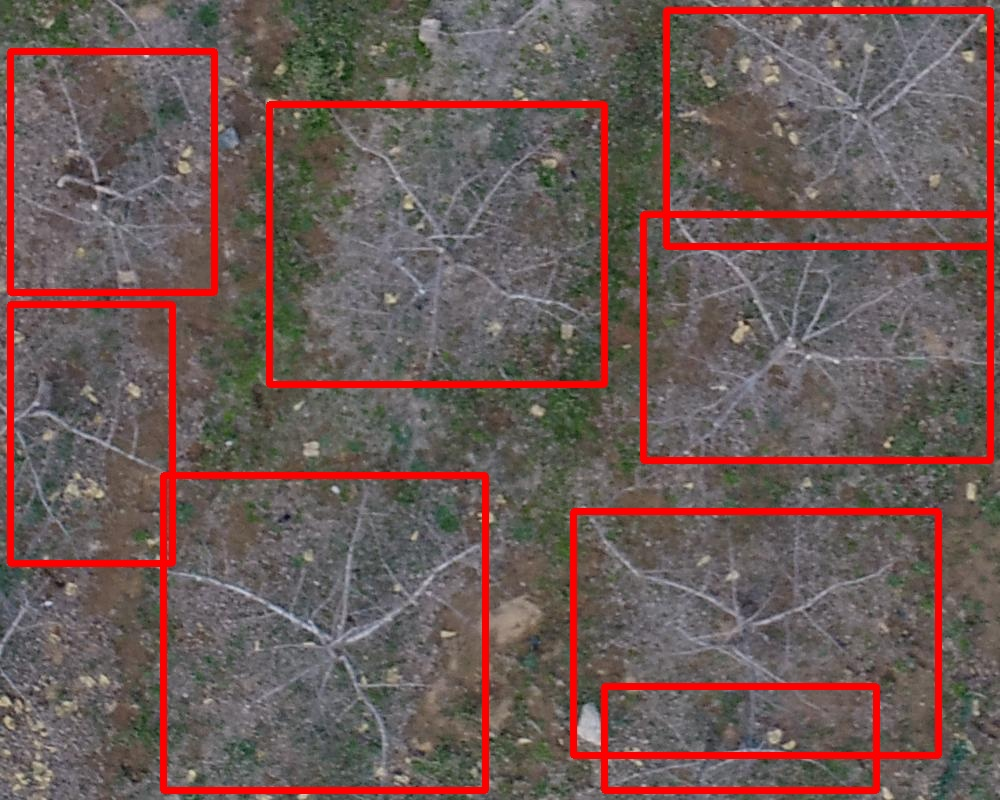apple: (163, 475, 485, 790), (269, 104, 604, 384), (573, 511, 938, 755), (643, 214, 990, 460), (666, 10, 990, 246), (10, 51, 214, 292), (10, 304, 172, 563), (604, 686, 876, 790)
